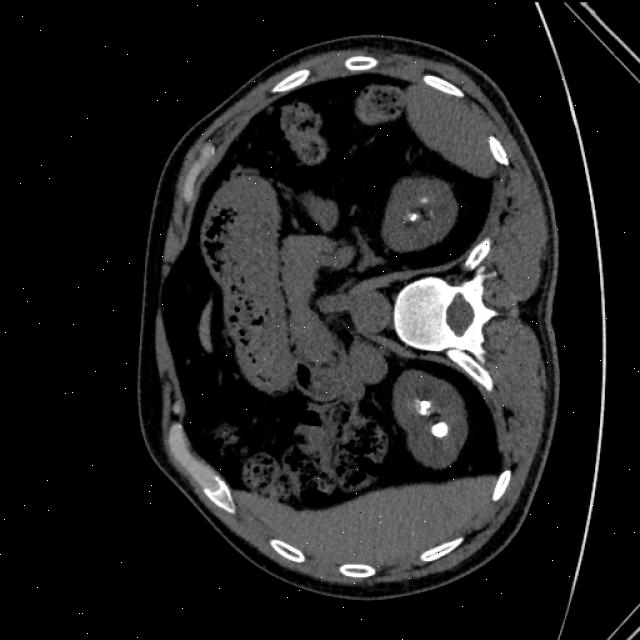kidneystone: (431, 421, 448, 436), (419, 400, 431, 414), (405, 211, 417, 221)
